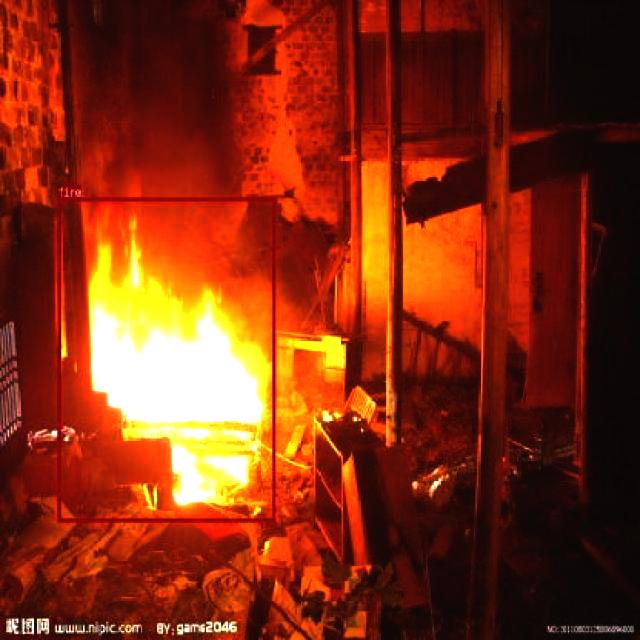fire: (58, 196, 274, 522)
